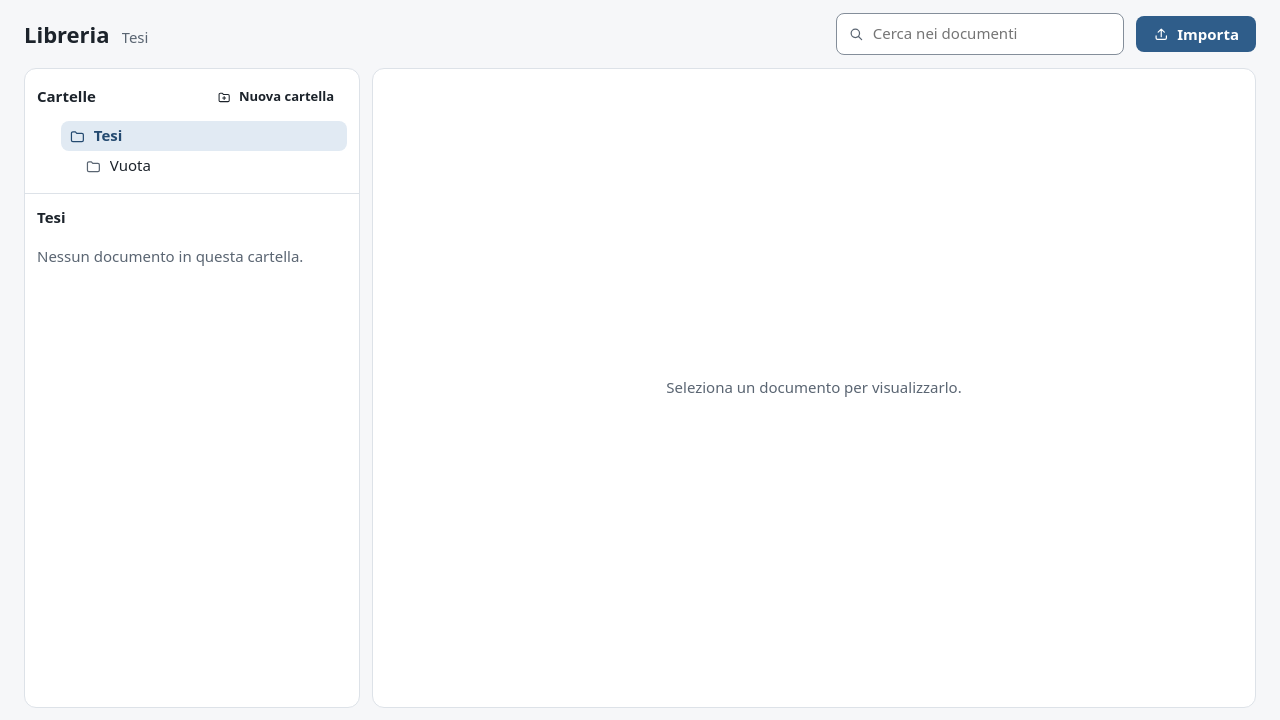
Test: folders › deletes an empty folder and goes back to its parent
The image size is (1280, 720).
Click the button "Vuota": (130, 165) 77,151 -> 347,181
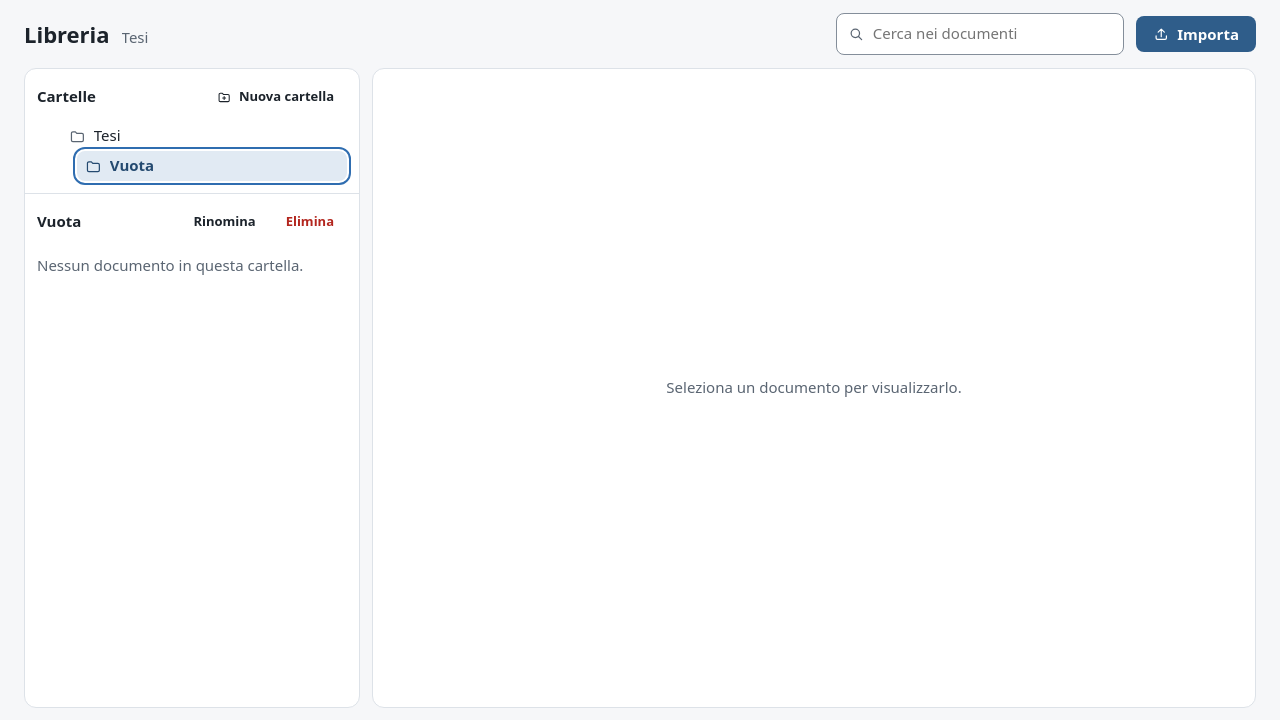
Click the button with aria-label "Elimina la cartella «Vuota»": (310, 222) 273,206 -> 347,238
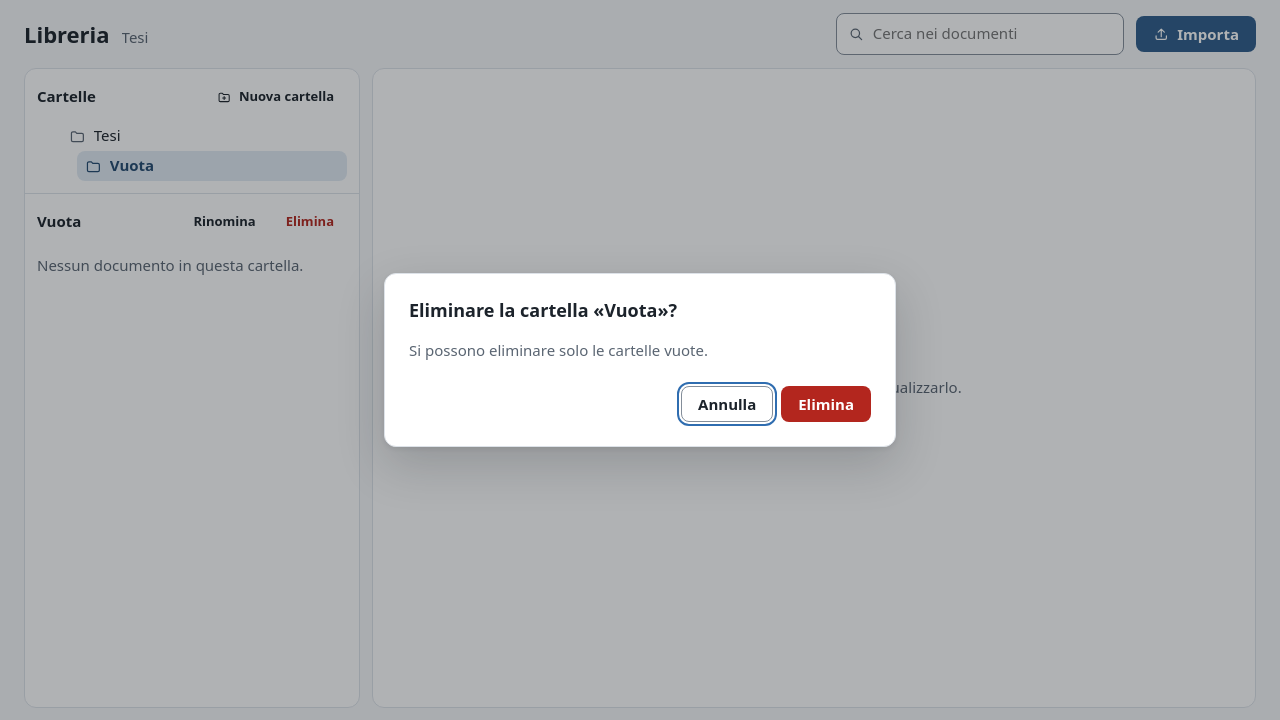
Click the button "Elimina": (826, 404) 781,386 -> 871,422
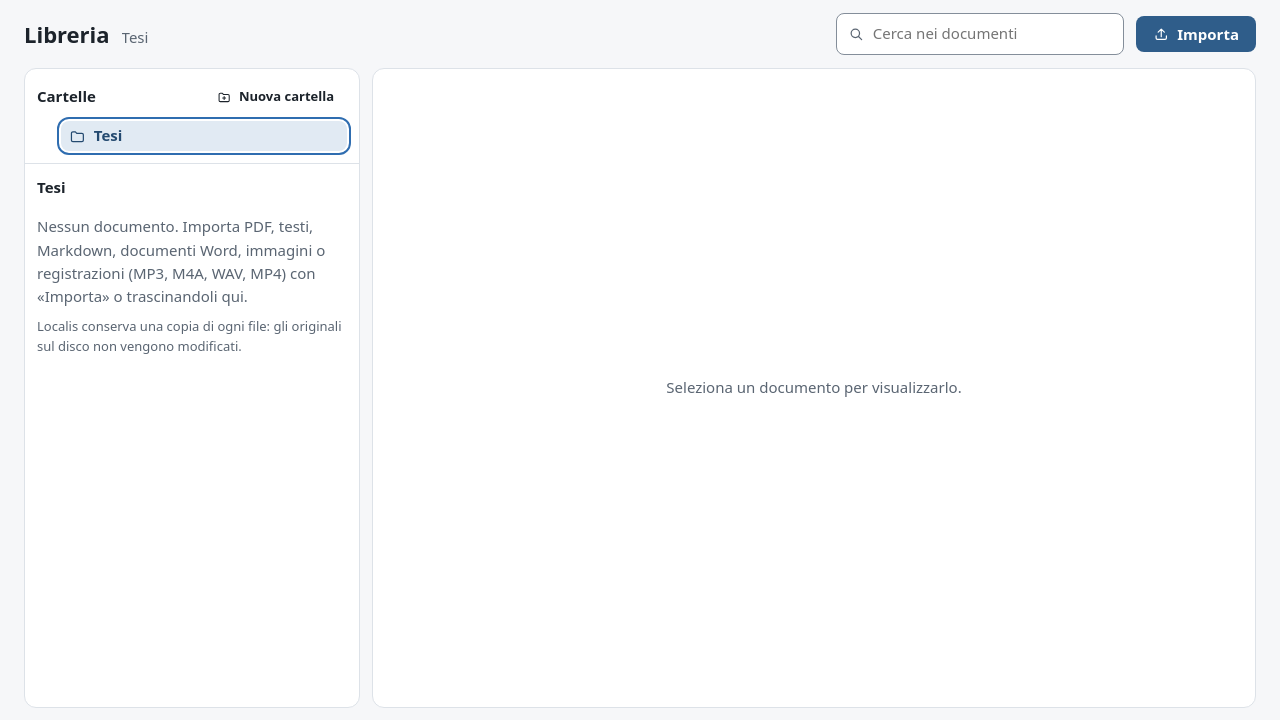
Expected: the button "Vuota" is gone
Expected: the heading "Tesi" is shown, 37,177 -> 66,197
